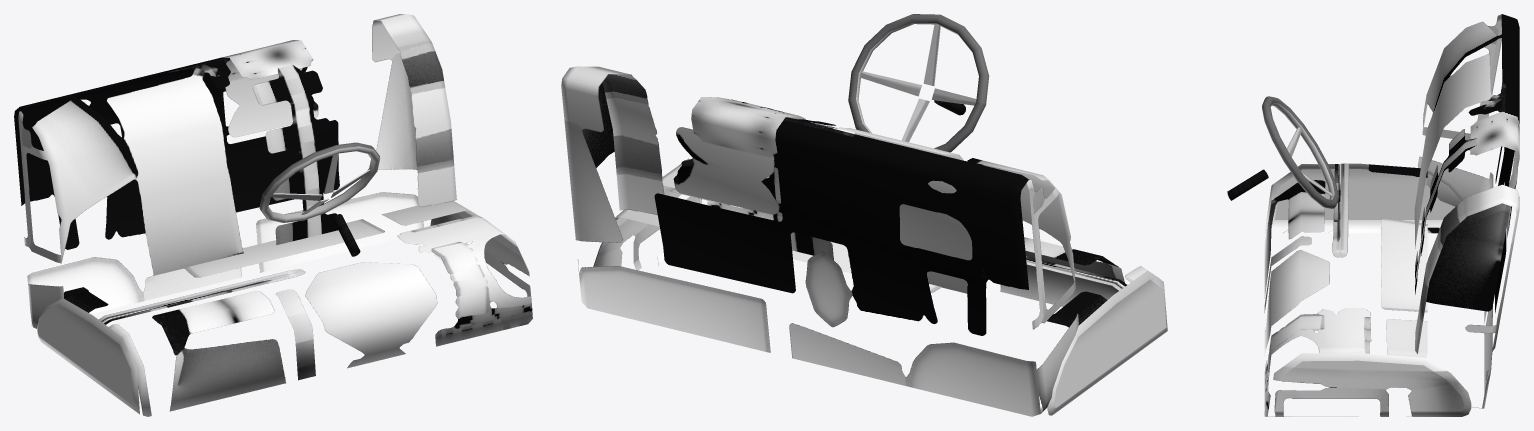
The model's file is InteriorDefault.dae.
3 renders of one model, left to right at view 1: azimuth 30°, elevation 25°; view 2: azimuth 150°, elevation 25°; view 3: azimuth 270°, elevation 25°, orthographic. The views are drawn at different scales.
Parts seen in each view (by area): view 1: SEAT, STEERING_WHEELS; view 2: SEAT, STEERING_WHEELS; view 3: SEAT, STEERING_WHEELS.
Boxes of the visible parts, x1,y1,x2,y2 form: SEAT: [14, 14, 532, 416]; STEERING_WHEELS: [259, 142, 380, 256]; SEAT: [561, 66, 1167, 416]; STEERING_WHEELS: [848, 14, 989, 152]; SEAT: [1264, 14, 1519, 416]; STEERING_WHEELS: [1227, 96, 1338, 208].
Size of the model in its own units: 1.76 by 1.25 by 0.948.
